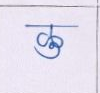u_matra: (33, 42, 64, 59)
